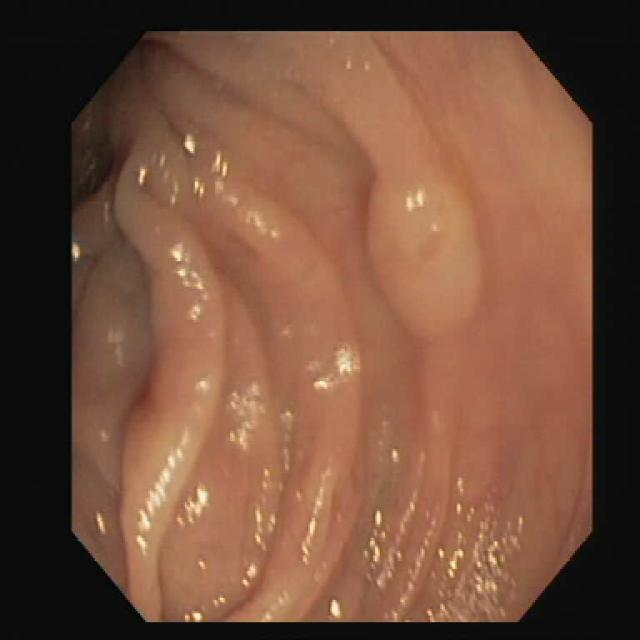tumor: (368, 162, 482, 336)
